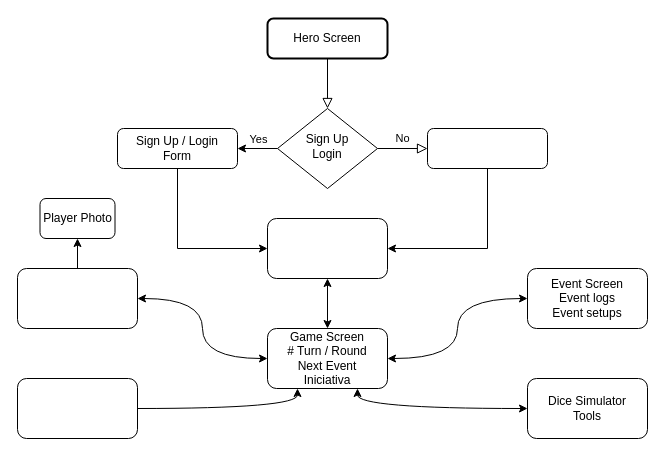
Image size: 665x456. Some labels were removed from this diagram. Each missing label, with the centre of its shape:
"Cookies / Hash Session" belongs at point 487,148.
"Home Screen / Ongoing Games" belongs at point 327,248.
"Player's Management Screen" belongs at point 77,298.
"Variables Setup Player Record Player info Storage" belongs at point 77,408.
